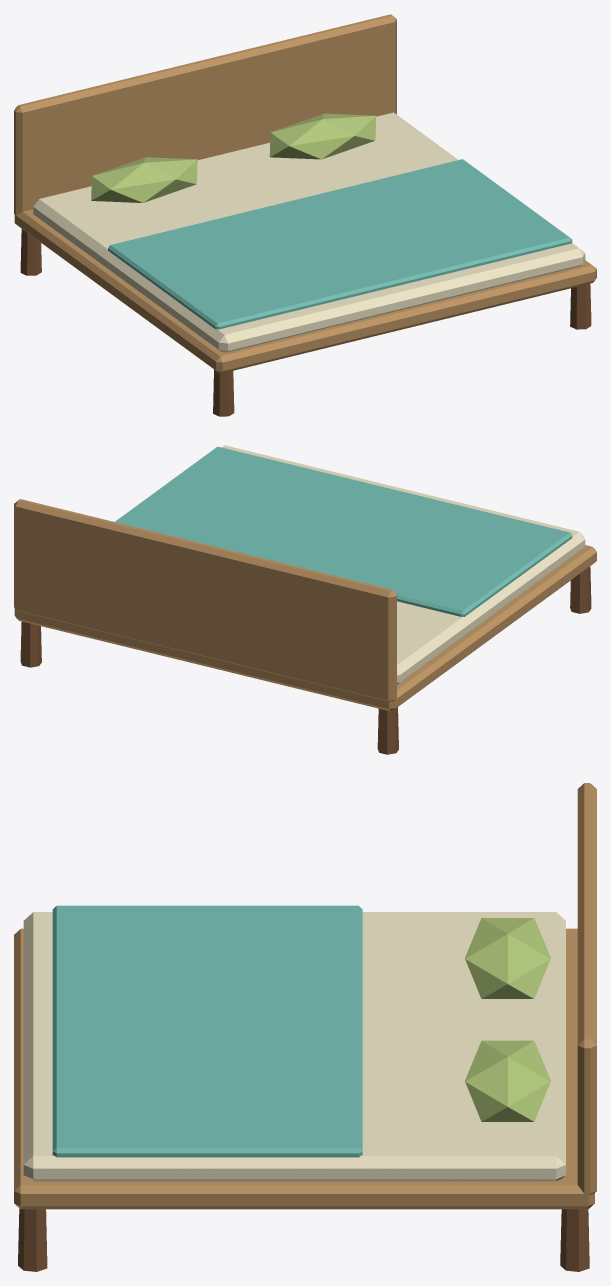
The model's file is CC_DoubleBed.fbx.
The picture shows the model from 3 angles, top to bottom: view 1: azimuth 30°, elevation 25°; view 2: azimuth 150°, elevation 25°; view 3: azimuth 270°, elevation 25°; orthographic projection. The views are drawn at different scales.
Visible parts, largest first — view 1: Blanket, Headboard.001, Mattress.001, Bed base.001, Pillow.002, Pillow.003, Bed leg.004, Bed leg.006, Bed leg.005; view 2: Headboard.001, Blanket, Bed base.001, Mattress.001, Bed leg.005, Bed leg.007, Bed leg.004; view 3: Blanket, Mattress.001, Bed base.001, Headboard.001, Pillow.003, Pillow.002, Bed leg.007, Bed leg.006.
Boxes of the visible parts, left/top/right/bottom form: Blanket: left=108, top=159, right=572, bottom=329; Headboard.001: left=14, top=14, right=396, bottom=215; Mattress.001: left=33, top=112, right=585, bottom=352; Bed base.001: left=14, top=209, right=596, bottom=373; Pillow.002: left=91, top=157, right=197, bottom=202; Pillow.003: left=269, top=113, right=376, bottom=159; Bed leg.004: left=213, top=369, right=234, bottom=416; Bed leg.006: left=570, top=284, right=591, bottom=329; Bed leg.005: left=20, top=229, right=41, bottom=275; Headboard.001: left=14, top=499, right=396, bottom=701; Blanket: left=115, top=446, right=572, bottom=616; Bed base.001: left=14, top=545, right=596, bottom=711; Mattress.001: left=222, top=445, right=585, bottom=684; Bed leg.005: left=377, top=707, right=398, bottom=754; Bed leg.007: left=20, top=621, right=41, bottom=667; Bed leg.004: left=570, top=566, right=591, bottom=613; Blanket: left=52, top=905, right=362, bottom=1157; Mattress.001: left=23, top=912, right=565, bottom=1181; Bed base.001: left=14, top=928, right=594, bottom=1209; Headboard.001: left=577, top=783, right=596, bottom=1194; Pillow.003: left=465, top=1040, right=550, bottom=1121; Pillow.002: left=465, top=918, right=550, bottom=998; Bed leg.007: left=560, top=1209, right=589, bottom=1271; Bed leg.006: left=18, top=1208, right=47, bottom=1271.
Size of the model in its own units: 3.2 by 1.32 by 3.01.
